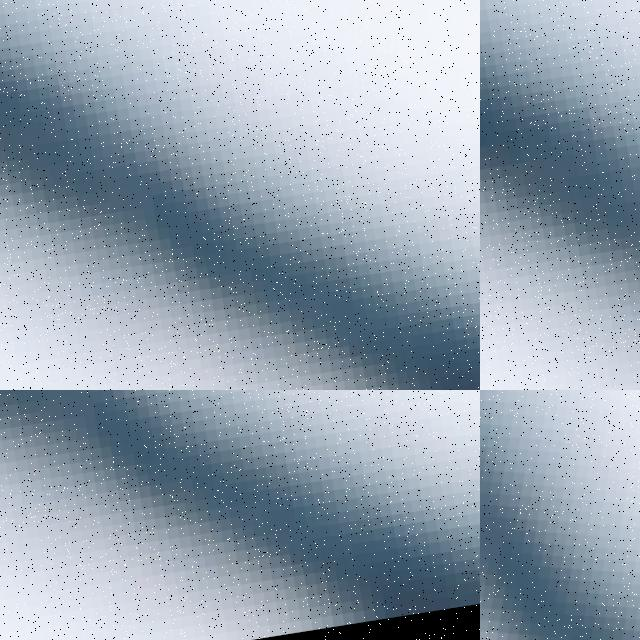drone: (480, 390, 640, 640)
